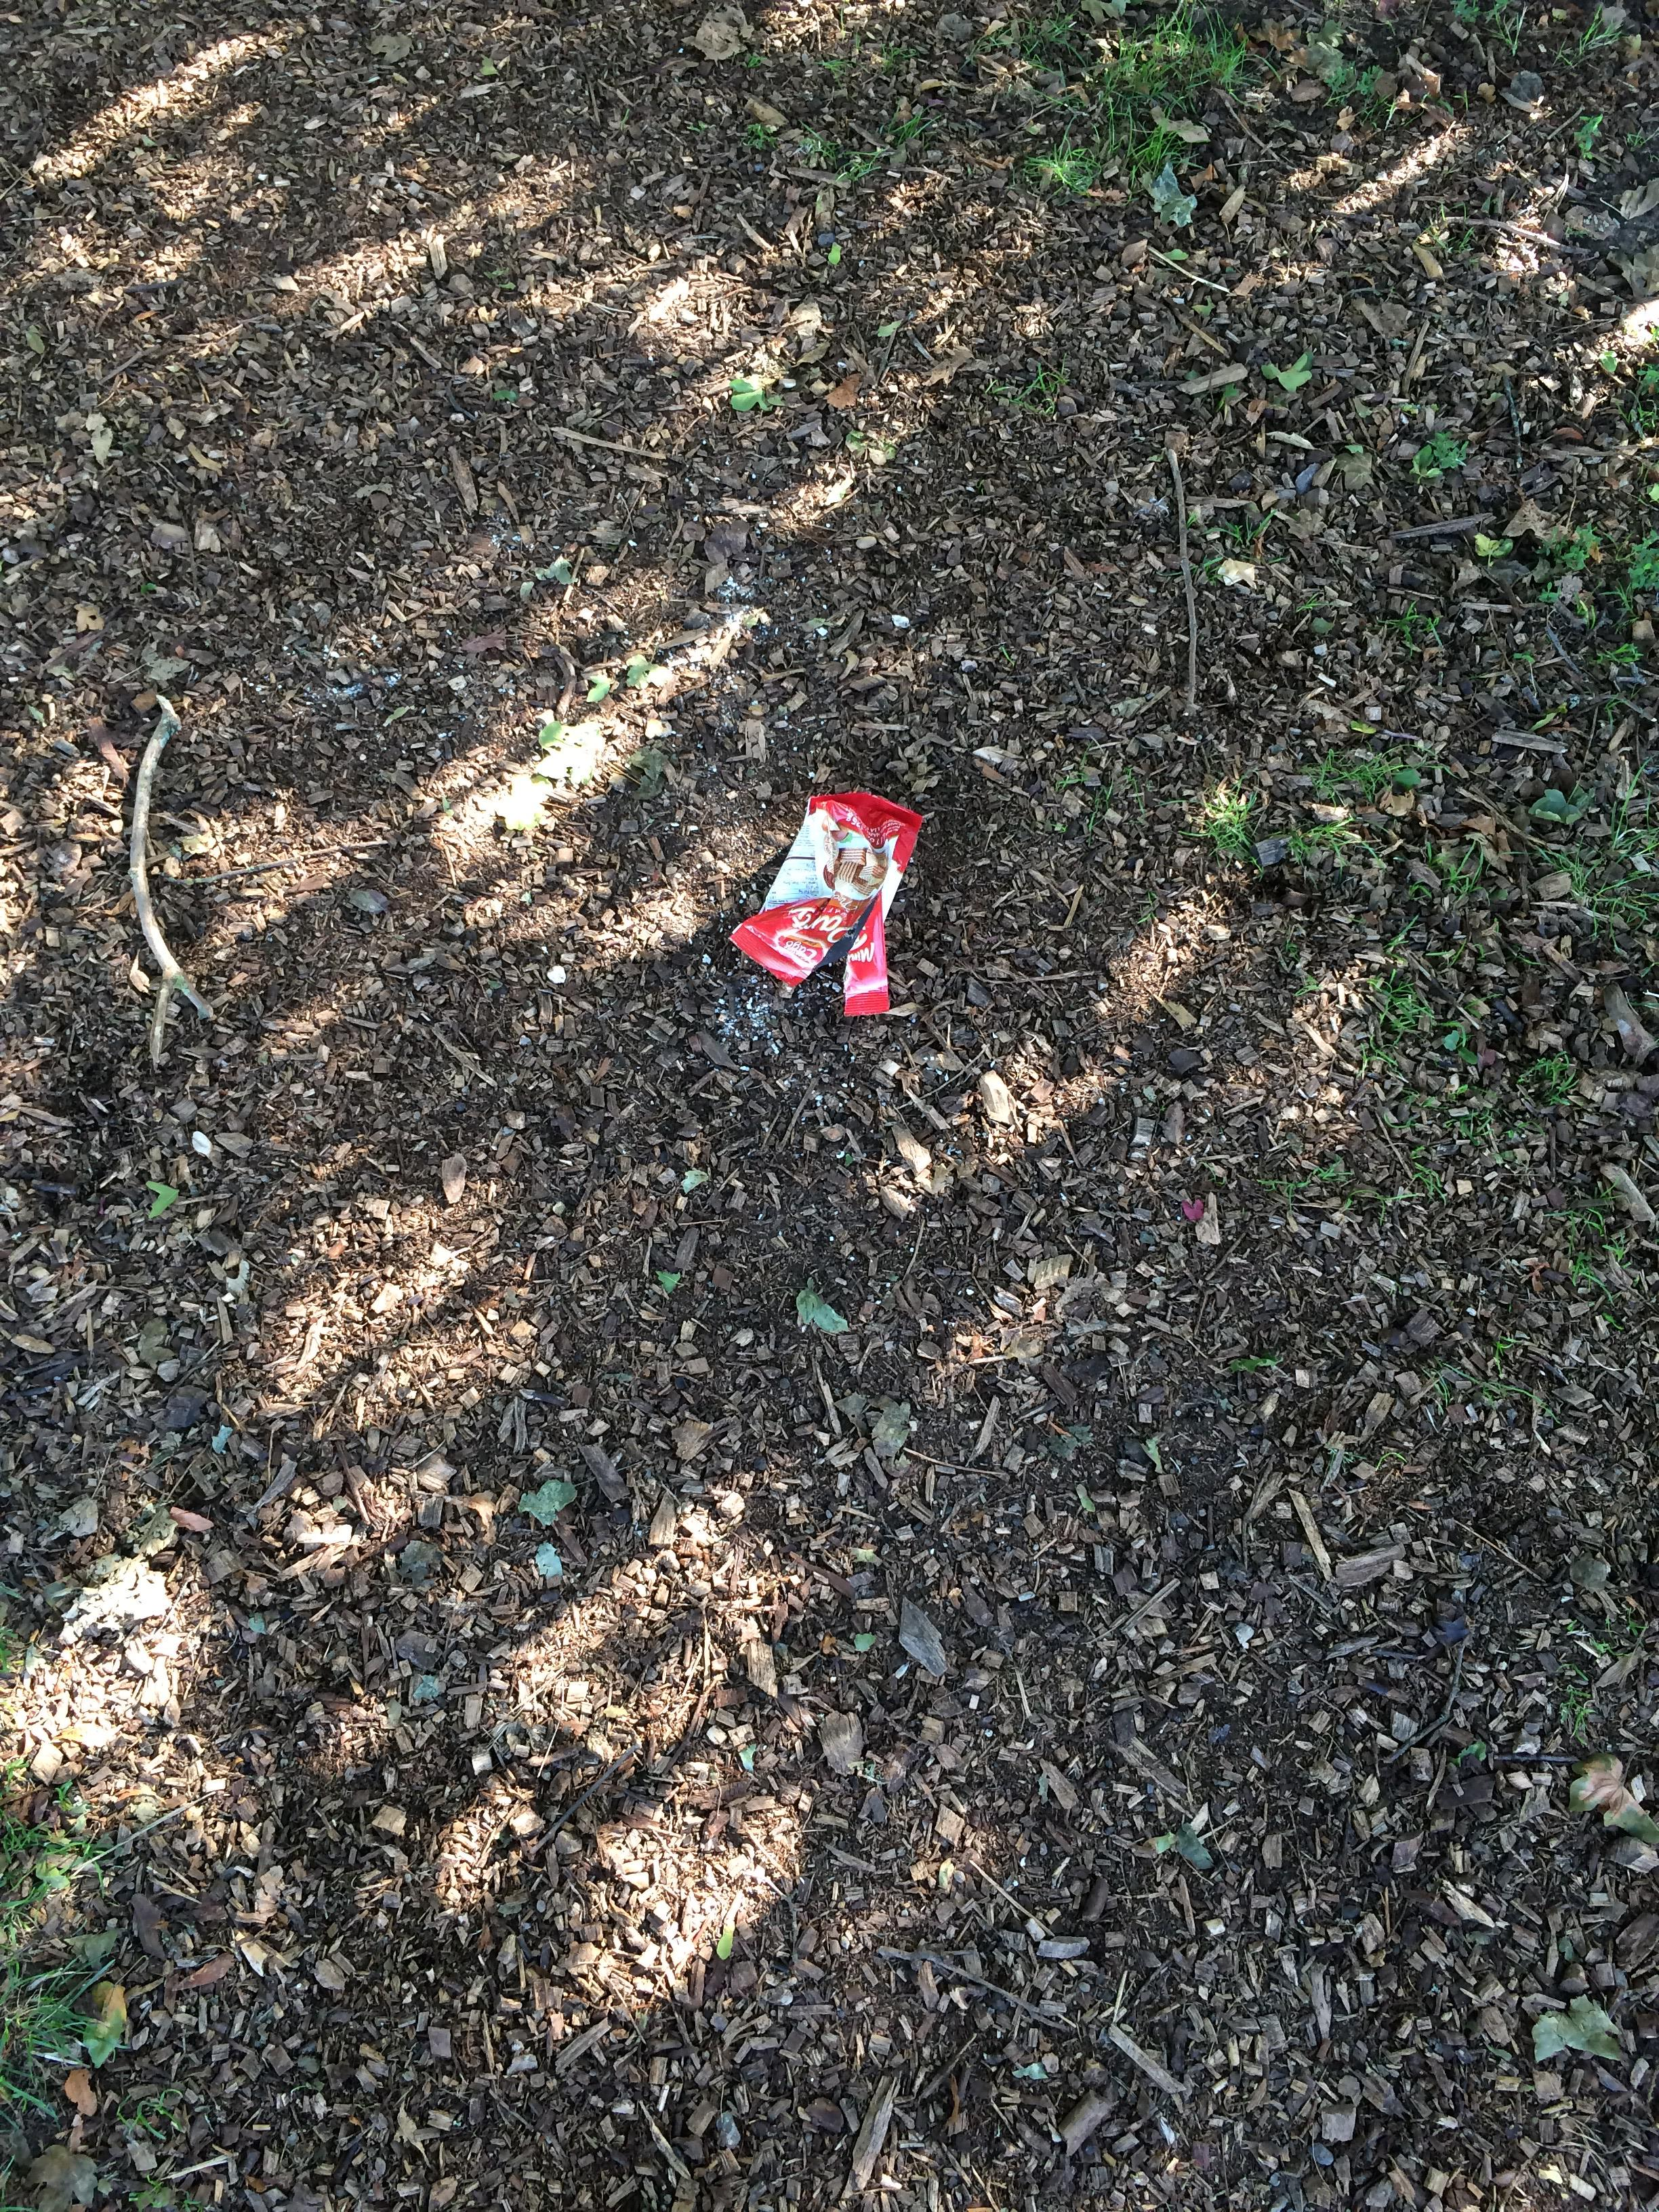Trash: (728, 789, 925, 1014)
